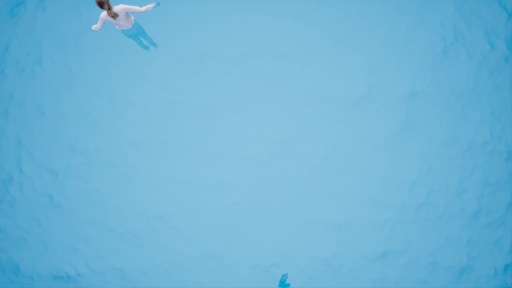person: (86, 1, 165, 54)
